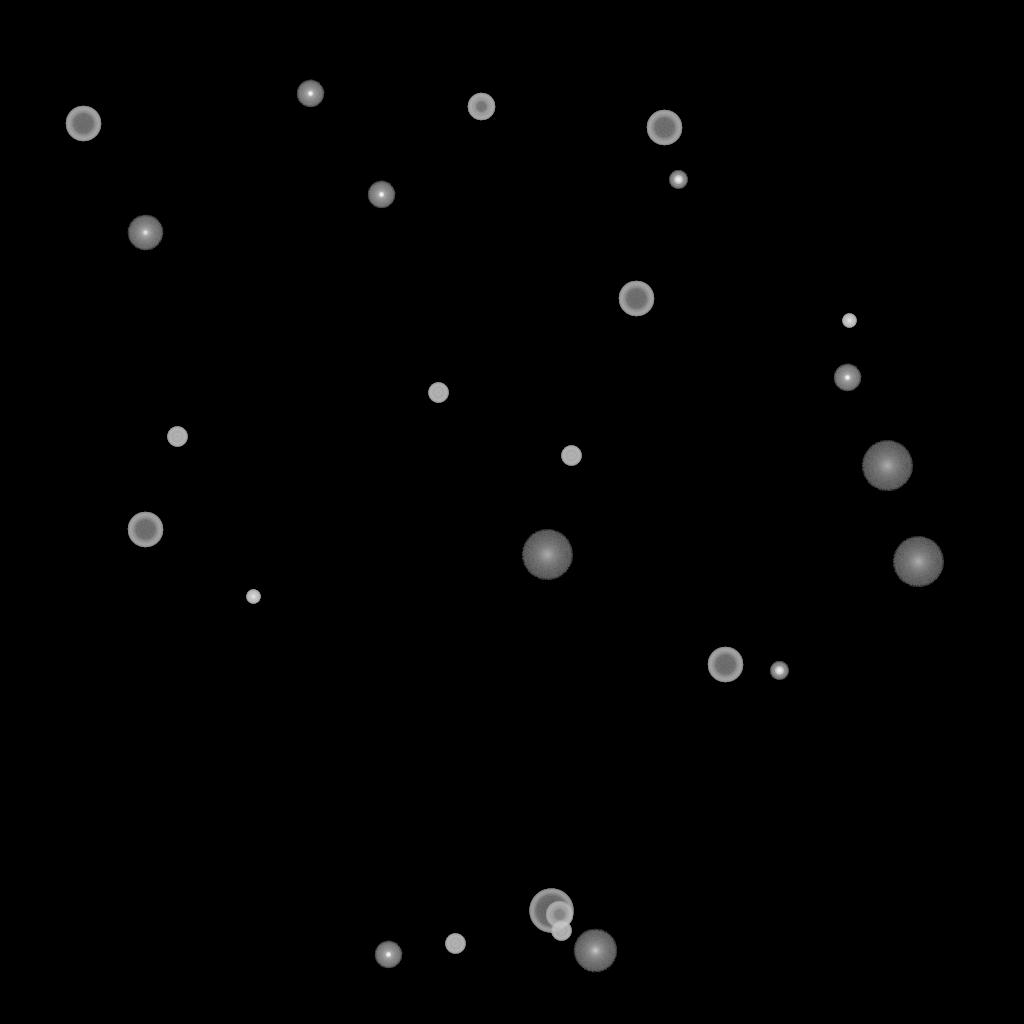depth:-10: (833, 364, 861, 392), (374, 941, 402, 969), (367, 181, 395, 209), (296, 80, 324, 108)
depth:-20: (770, 662, 788, 680), (669, 171, 687, 189)
depth:-30: (842, 314, 856, 328), (246, 590, 260, 604)
depth:-40: (167, 427, 187, 447), (551, 921, 571, 941), (428, 383, 448, 403), (445, 934, 465, 954), (561, 446, 581, 466)
depth:-50: (545, 901, 573, 929), (467, 93, 495, 121)
depth:-60: (65, 106, 101, 142), (646, 110, 682, 146), (127, 512, 163, 548), (707, 647, 743, 683), (618, 281, 654, 317)
depth:-70: (529, 889, 573, 933)
depth:0: (127, 215, 163, 251)
depth:10: (573, 929, 617, 973)
depth:20: (892, 537, 944, 587), (521, 530, 573, 580), (861, 441, 913, 491)
